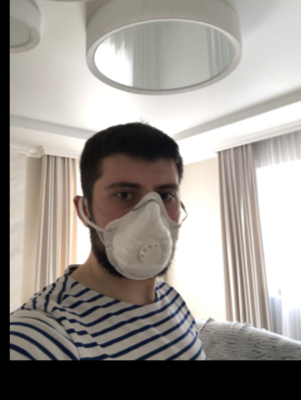with_mask: (99, 173, 180, 281)
